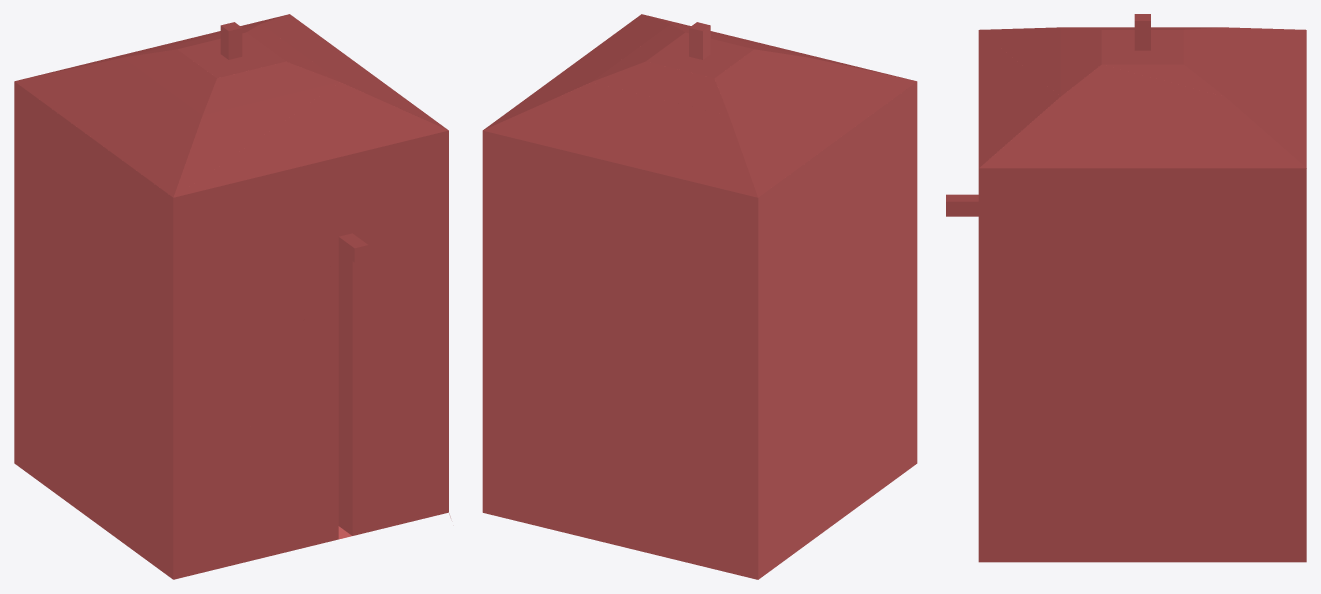
The model's file is tibi_deka_in.glb.
3 renders of one model, left to right at view 1: azimuth 30°, elevation 25°; view 2: azimuth 150°, elevation 25°; view 3: azimuth 270°, elevation 25°, orthographic. The views are drawn at different scales.
Parts seen in each view (by area): view 1: tibi_deka_in_col; view 2: tibi_deka_in_col; view 3: tibi_deka_in_col.
Part boxes in pixels (x1=…): tibi_deka_in_col: x1=14, y1=14, x2=450, y2=579; tibi_deka_in_col: x1=482, y1=14, x2=917, y2=579; tibi_deka_in_col: x1=946, y1=14, x2=1306, y2=562.
Bounding box in the file's own units: 4.07 × 6.61 × 4.4.
